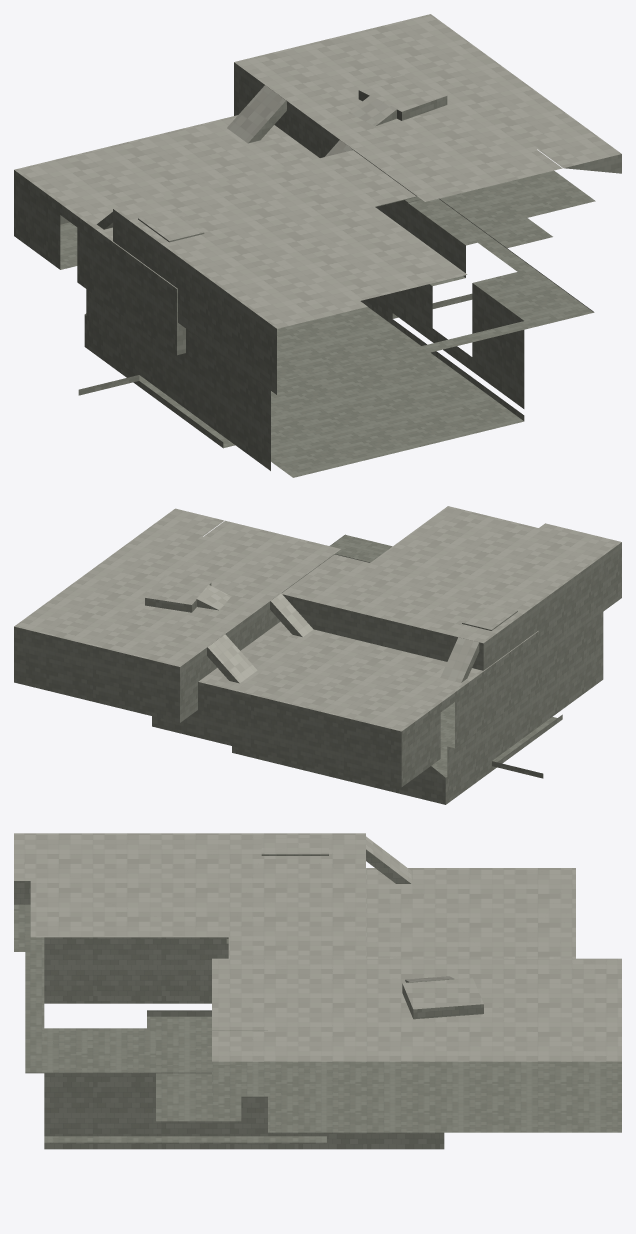
The model's file is SM_QD_Ground_SchoolCampus.fbx.
3 views of the same model, one above another, from view 1: azimuth 30°, elevation 25°; view 2: azimuth 150°, elevation 25°; view 3: azimuth 270°, elevation 25° (orthographic). The views are drawn at different scales.
Visible parts, largest first — view 1: SM_QD_Ground_SchoolCampus; view 2: SM_QD_Ground_SchoolCampus; view 3: SM_QD_Ground_SchoolCampus.
Boxes of the visible parts, x1,y1,x2,y2 form: SM_QD_Ground_SchoolCampus: (14,14,621,477); SM_QD_Ground_SchoolCampus: (14,506,621,804); SM_QD_Ground_SchoolCampus: (14,833,621,1149).
Size of the model in its own units: 42.53 by 42.64 by 14.69.
2 materials, 2 textured.
